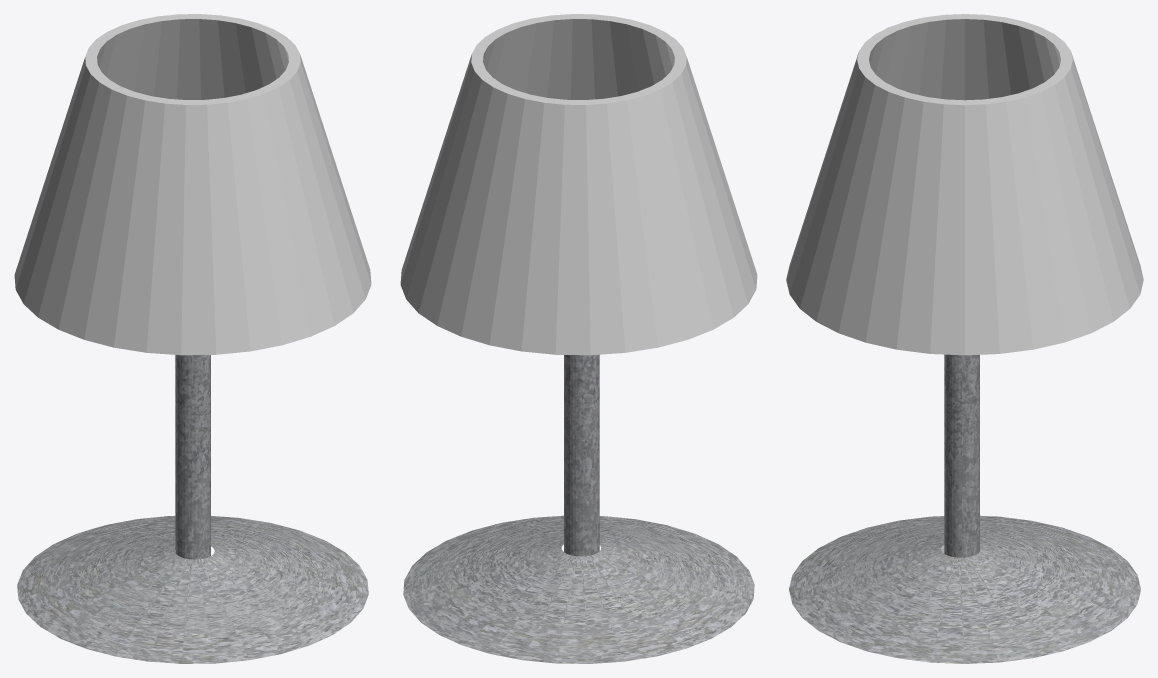
File: desk lamp.fbx
3 renders of one model, left to right at view 1: azimuth 30°, elevation 25°; view 2: azimuth 150°, elevation 25°; view 3: azimuth 270°, elevation 25°, orthographic.
Visible parts, largest first — view 1: Cylinder.020; view 2: Cylinder.020; view 3: Cylinder.020.
Part boxes in pixels (x1,y1,x2,y2): Cylinder.020: (14, 14, 371, 663); Cylinder.020: (400, 14, 757, 663); Cylinder.020: (786, 14, 1143, 663).
Size of the model in its own units: 99.65 by 163 by 99.65.
